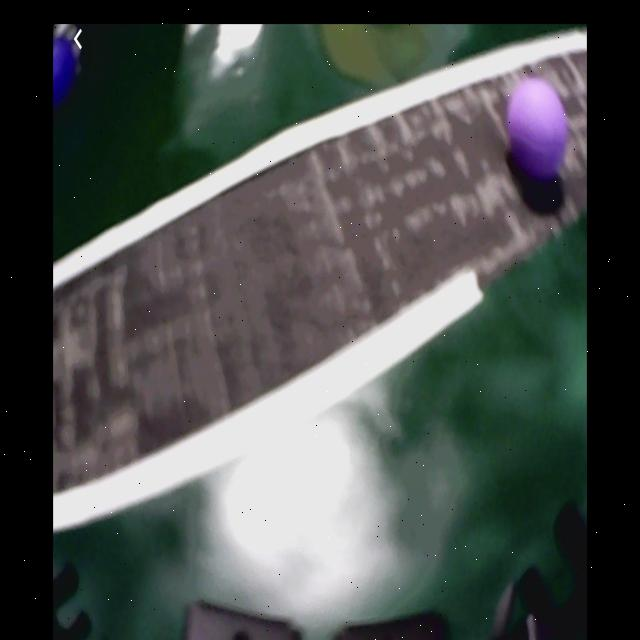ball: (503, 78, 569, 181), (53, 40, 80, 101)
